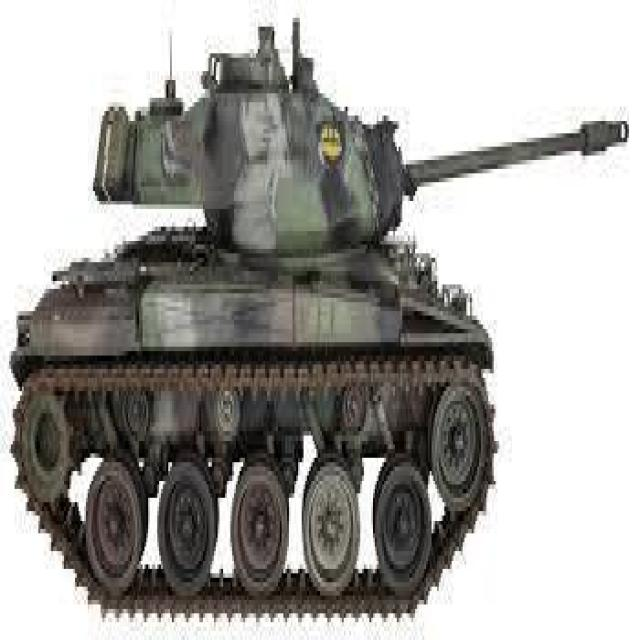Tanks: (18, 56, 629, 634)
